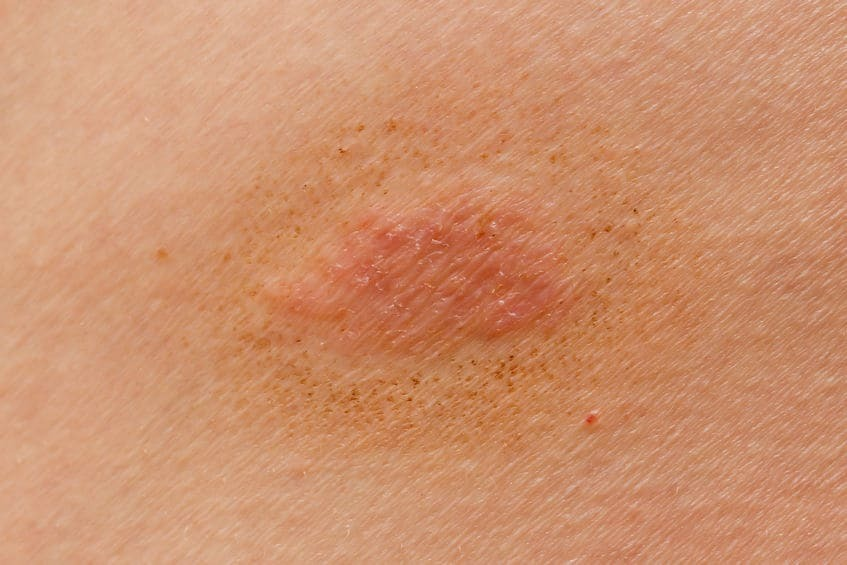Ringworm: (168, 4, 409, 168)
